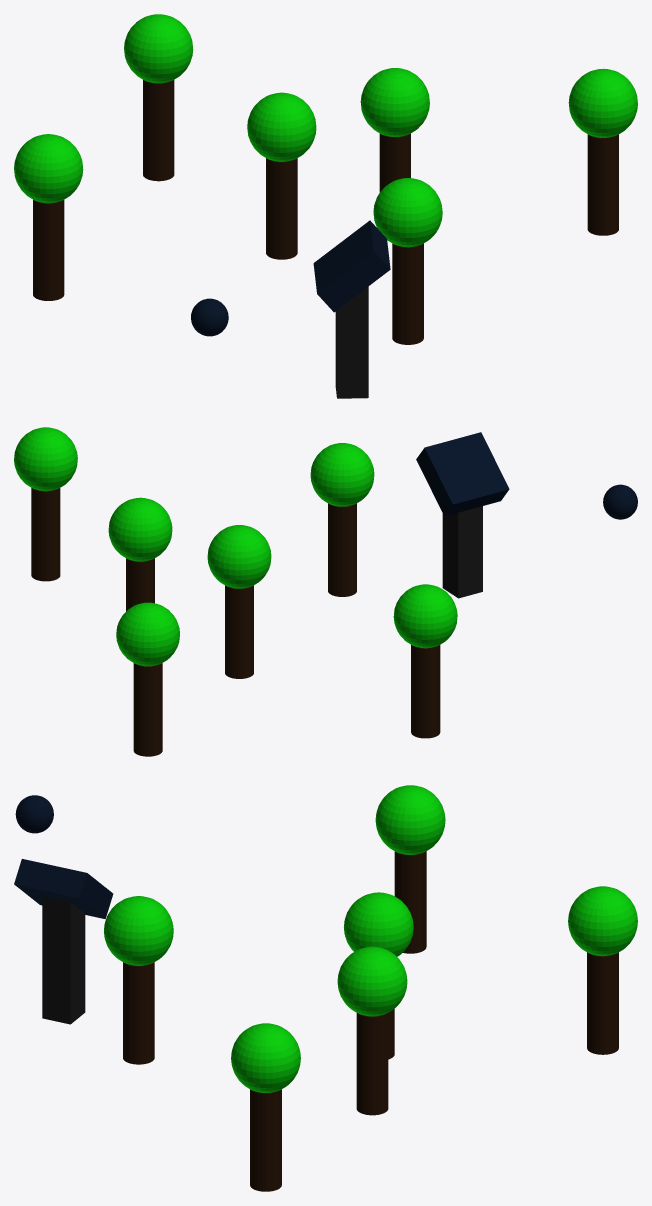
The model's file is exercise20026.obj.
3 views of the same model, one above another, from view 1: azimuth 30°, elevation 25°; view 2: azimuth 150°, elevation 25°; view 3: azimuth 270°, elevation 25° (orthographic). The views are drawn at different scales.
Visible parts, largest first — view 1: Cube.001, Sphere.005, Sphere.002, Sphere.006, Sphere, Sphere.003, Sphere.004, Cube, Cylinder.002, Cylinder.003, Cylinder.005, Cylinder.004 (+4 smaller); view 2: Cube.001, Cube, Sphere, Sphere.005, Sphere.006, Sphere.003, Sphere.004, Sphere.002, Cylinder.003, Cylinder.005, Cylinder.006, Cylinder.002 (+4 smaller); view 3: Cube, Sphere, Sphere.006, Sphere.004, Sphere.005, Sphere.003, Sphere.002, Cube.001, Cylinder.004, Cylinder.003, Cylinder.005, Cylinder (+3 smaller).
Boxes of the visible parts, x1=… form: Cube.001: x1=313, y1=220, x2=390, y2=312; Sphere.005: x1=124, y1=14, x2=193, y2=83; Sphere.002: x1=247, y1=92, x2=316, y2=161; Sphere.006: x1=14, y1=134, x2=83, y2=203; Sphere: x1=360, y1=68, x2=429, y2=136; Sphere.003: x1=568, y1=68, x2=637, y2=137; Sphere.004: x1=373, y1=178, x2=442, y2=247; Cube: x1=335, y1=286, x2=368, y2=398; Cylinder.002: x1=266, y1=158, x2=297, y2=259; Cylinder.003: x1=587, y1=134, x2=618, y2=235; Cylinder.005: x1=143, y1=80, x2=174, y2=181; Cylinder.004: x1=392, y1=243, x2=423, y2=344; Cube.001: x1=416, y1=432, x2=509, y2=516; Cube: x1=442, y1=506, x2=482, y2=598; Sphere: x1=108, y1=497, x2=172, y2=561; Sphere.005: x1=116, y1=602, x2=179, y2=666; Sphere.006: x1=393, y1=584, x2=457, y2=648; Sphere.003: x1=14, y1=427, x2=77, y2=491; Sphere.004: x1=310, y1=443, x2=374, y2=506; Sphere.002: x1=207, y1=525, x2=271, y2=588; Cylinder.003: x1=31, y1=488, x2=60, y2=581; Cylinder.005: x1=133, y1=663, x2=162, y2=756; Cylinder.006: x1=411, y1=645, x2=440, y2=738; Cylinder.002: x1=225, y1=585, x2=253, y2=678; Cube: x1=42, y1=896, x2=85, y2=1024; Sphere: x1=337, y1=946, x2=407, y2=1016; Sphere.006: x1=375, y1=785, x2=445, y2=854; Sphere.004: x1=104, y1=896, x2=173, y2=965; Sphere.005: x1=568, y1=886, x2=637, y2=956; Sphere.003: x1=231, y1=1023, x2=300, y2=1092; Sphere.002: x1=344, y1=892, x2=413, y2=956; Cube.001: x1=14, y1=859, x2=113, y2=919; Cylinder.004: x1=123, y1=962, x2=154, y2=1064; Cylinder.003: x1=250, y1=1089, x2=281, y2=1191; Cylinder.005: x1=587, y1=952, x2=618, y2=1054; Cylinder: x1=356, y1=1013, x2=388, y2=1114.
Size of what is drawn, in the model's own units: 40.53 by 11.23 by 39.13.
